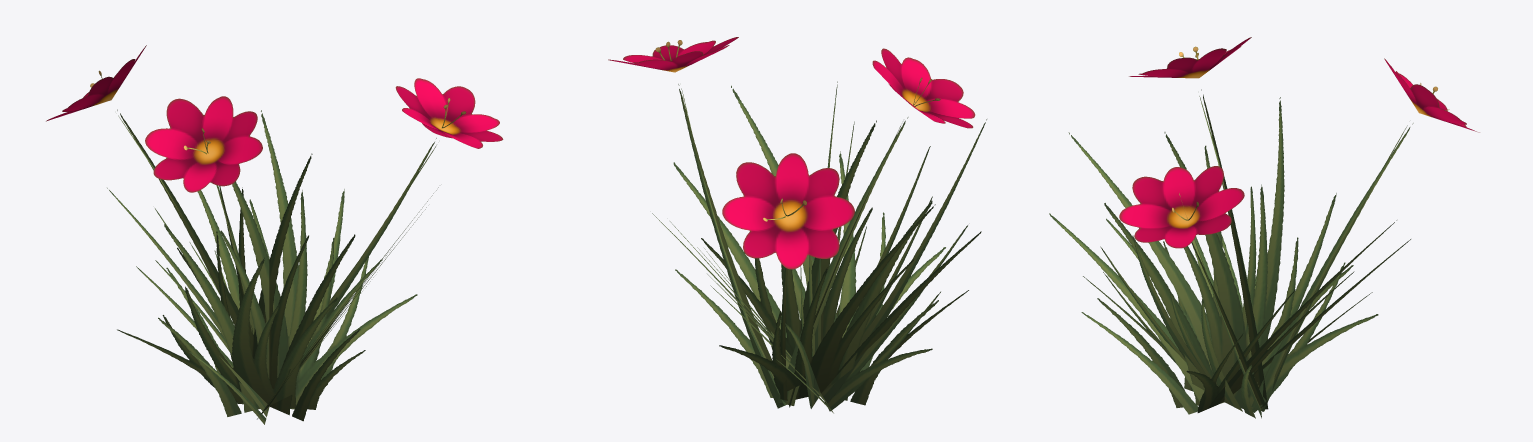
Rendered from Me_GrassAndFlowers.fbx.
The picture shows the model from 3 angles, left to right: view 1: azimuth 30°, elevation 25°; view 2: azimuth 150°, elevation 25°; view 3: azimuth 270°, elevation 25°; orthographic projection. The views are drawn at different scales.
Parts seen in each view (by area): view 1: polySurface33; view 2: polySurface33; view 3: polySurface33.
Part boxes in pixels (x1,y1,x2,y2): polySurface33: (46, 45, 503, 424); polySurface33: (608, 37, 986, 413); polySurface33: (1049, 37, 1479, 418).
Bounding box in the file's own units: 24.72 × 21.76 × 26.27.
